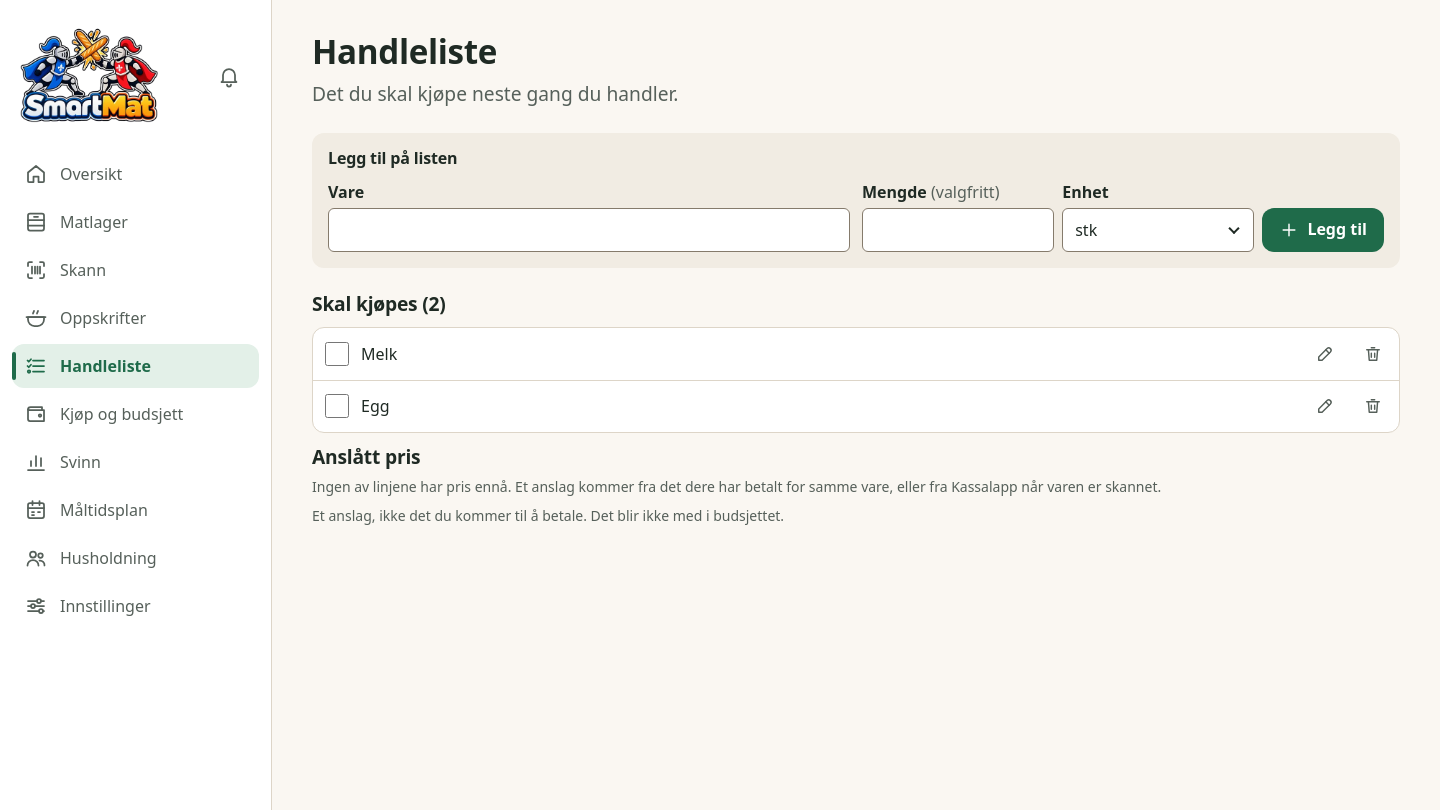
FR-SHOP-001 ticking off (optimistic, KURS-03 delegated events) › the line moves to "Huket av" before the server has answered, and PATCH sets checked
Step 1. Click the checkbox labelled "Melk" → (337, 354), box x1=325 y1=342 x2=349 y2=366
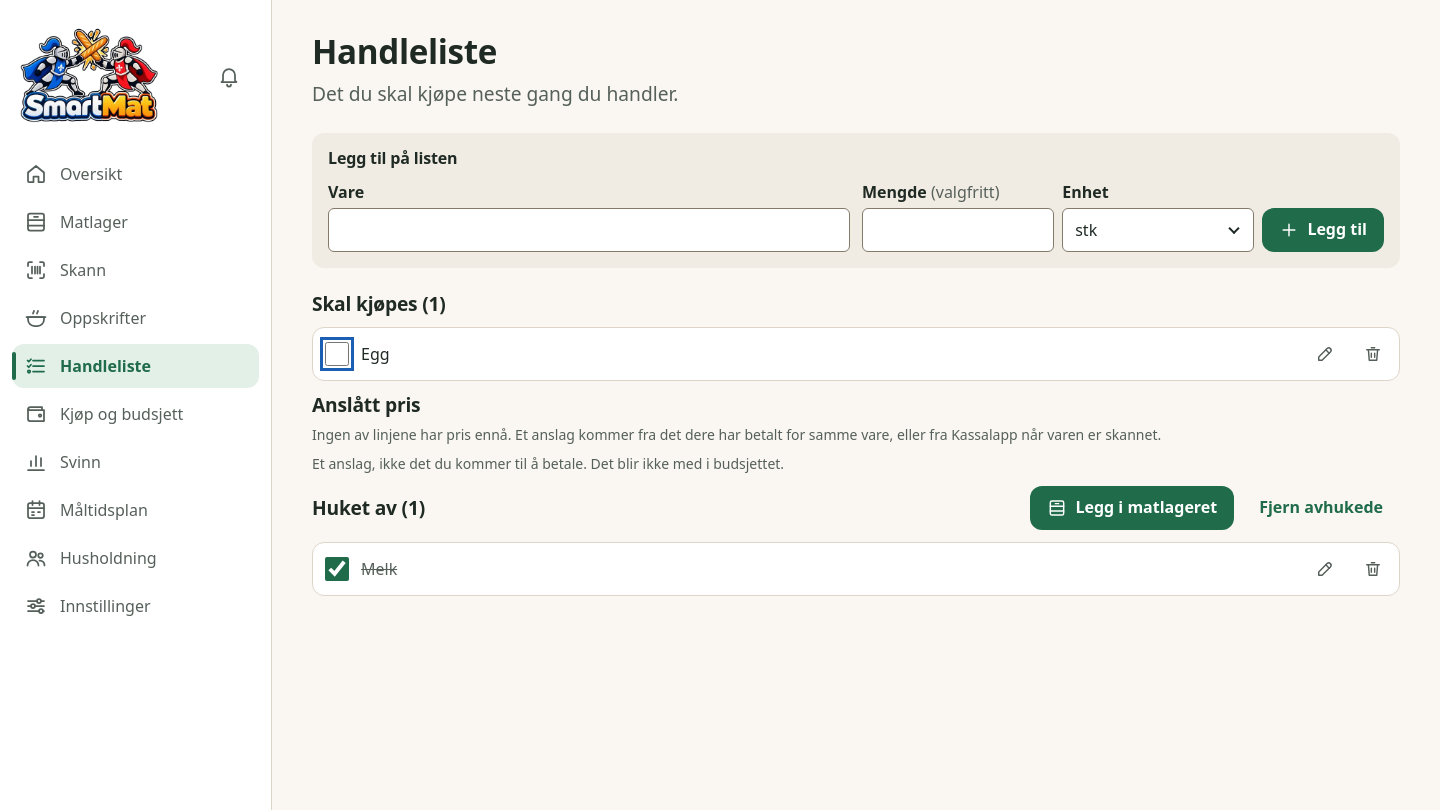
Result: the checkbox labelled "Melk" is checked at x1=325 y1=557 x2=349 y2=581
Result: the heading "Skal kjøpes (1)" is shown at x1=312 y1=290 x2=446 y2=317
